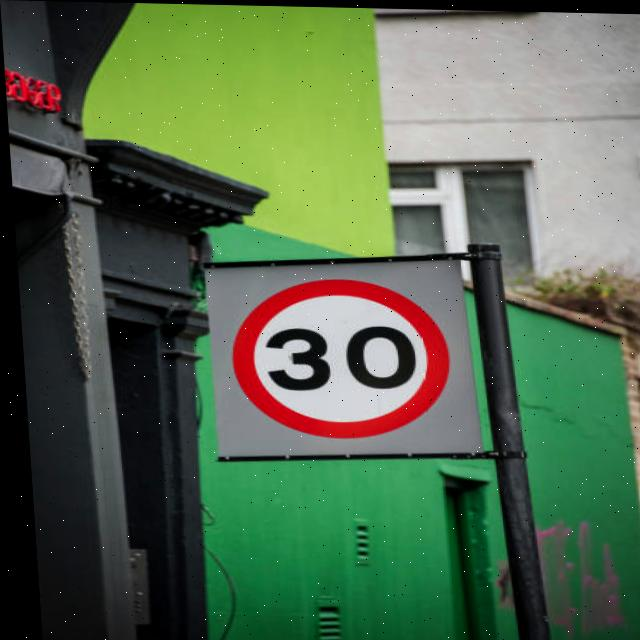Speed limit 30: (222, 273, 451, 446)
